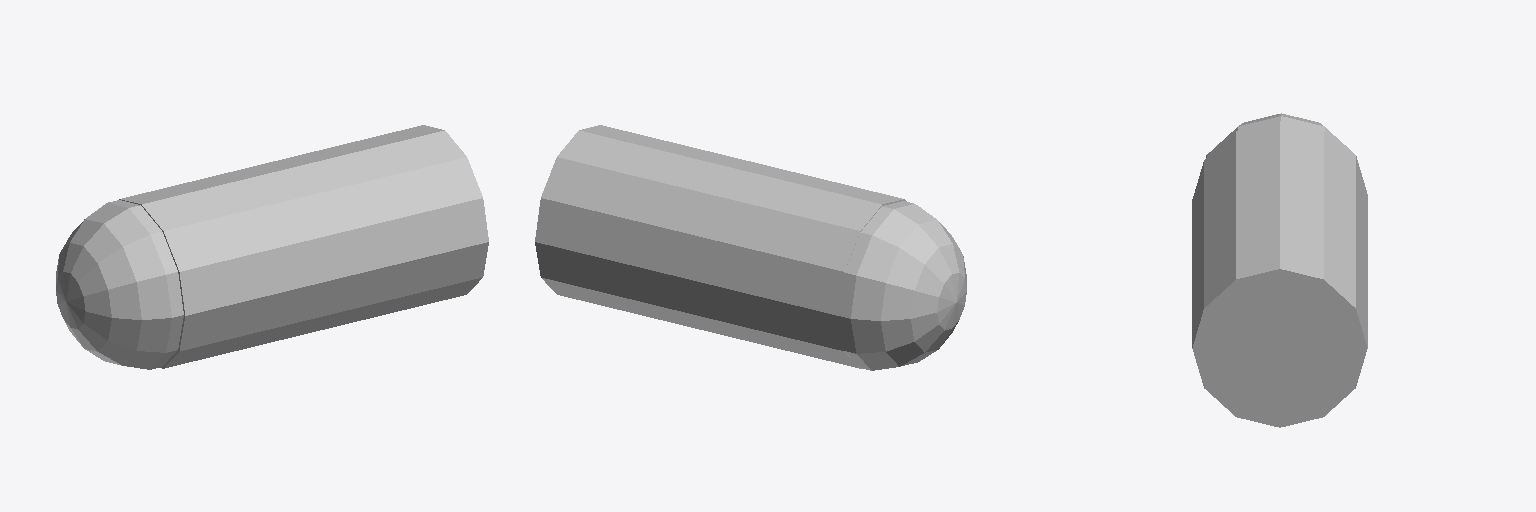
The model's file is Colorfull Bazooka - Rocket.obj.
3 renders of one model, left to right at view 1: azimuth 30°, elevation 25°; view 2: azimuth 150°, elevation 25°; view 3: azimuth 270°, elevation 25°, orthographic.
Visible parts, largest first — view 1: group[number redacted], group[number redacted], group[number redacted], group[number redacted]; view 2: group[number redacted], group[number redacted], group[number redacted], group[number redacted]; view 3: group[number redacted], group[number redacted], group[number redacted], group[number redacted].
Part boxes in pixels (left/top/right/bottom): group[number redacted]: left=196, top=143, right=412, bottom=349; group[number redacted]: left=56, top=200, right=183, bottom=369; group[number redacted]: left=119, top=181, right=260, bottom=368; group[number redacted]: left=348, top=125, right=488, bottom=312; group[number redacted]: left=611, top=143, right=827, bottom=349; group[number redacted]: left=824, top=201, right=966, bottom=370; group[number redacted]: left=535, top=125, right=675, bottom=312; group[number redacted]: left=763, top=181, right=906, bottom=368; group[number redacted]: left=1192, top=232, right=1367, bottom=427; group[number redacted]: left=1192, top=158, right=1367, bottom=310; group[number redacted]: left=1192, top=121, right=1367, bottom=236; group[number redacted]: left=1206, top=113, right=1367, bottom=205.
Size of the model in its own units: 0.0498 by 0.02 by 0.02.